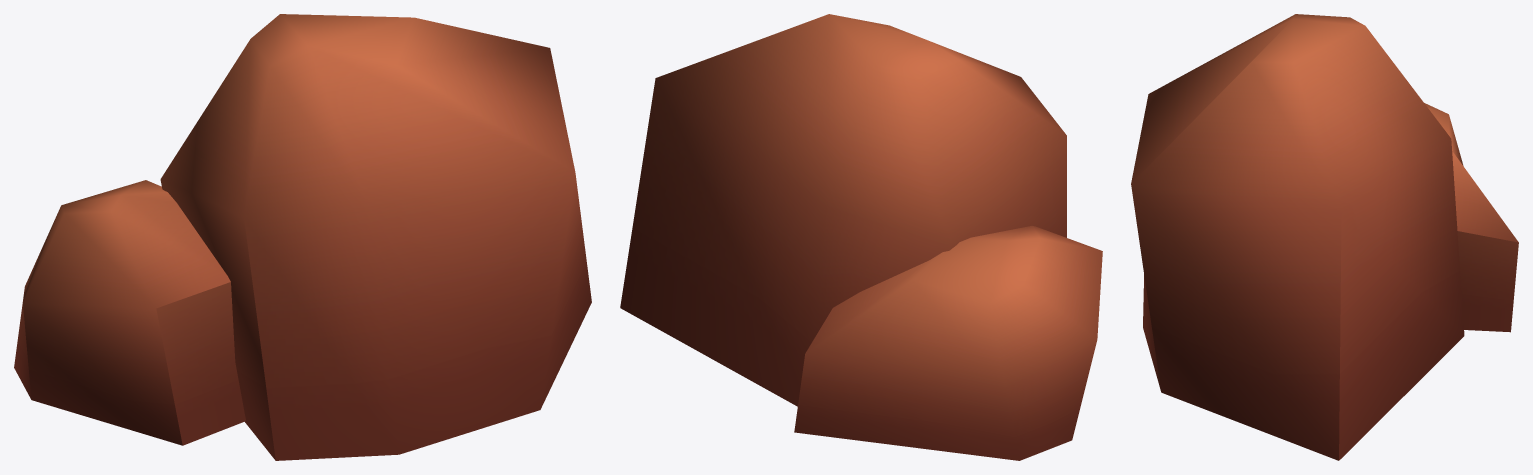
File: rock.007.fbx
The picture shows the model from 3 angles, left to right: view 1: azimuth 30°, elevation 25°; view 2: azimuth 150°, elevation 25°; view 3: azimuth 270°, elevation 25°; orthographic projection. The views are drawn at different scales.
Parts seen in each view (by area): view 1: rock.007; view 2: rock.007; view 3: rock.007.
Boxes of the visible parts, x1,y1,x2,y2 form: rock.007: (14,14,591,460); rock.007: (620,14,1102,460); rock.007: (1131,14,1518,460).
Bounding box in the file's own units: 4.58 × 2.83 × 3.2.
